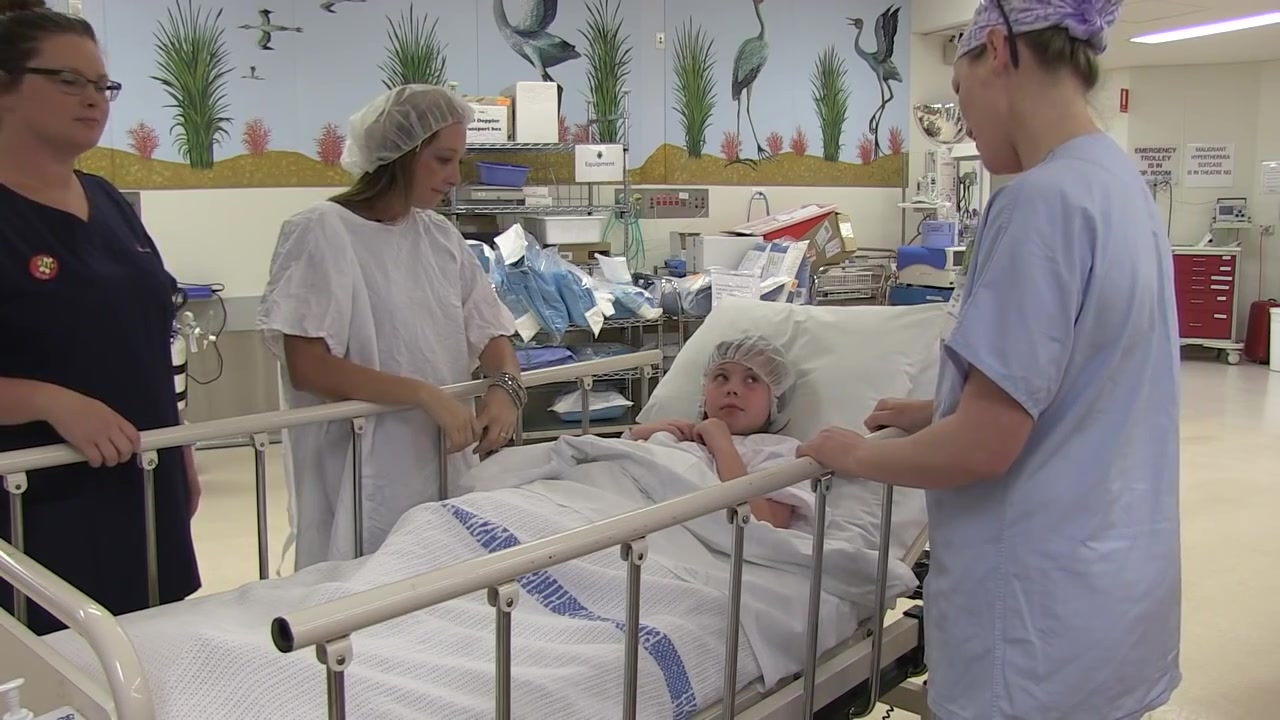bedrail: (1, 348, 666, 625), (264, 461, 898, 720)
foot_board: (1, 532, 154, 720)
handle: (1186, 319, 1205, 329), (1190, 272, 1206, 282), (1189, 283, 1206, 292), (1188, 297, 1205, 306), (1190, 264, 1208, 272), (1191, 256, 1209, 263)
hospital_bed: (1, 293, 904, 720)
medical_drawer: (1153, 241, 1244, 365)
patient: (621, 336, 809, 445)
staff: (753, 1, 1184, 720), (1, 10, 200, 606)
visitor: (281, 90, 494, 549)
